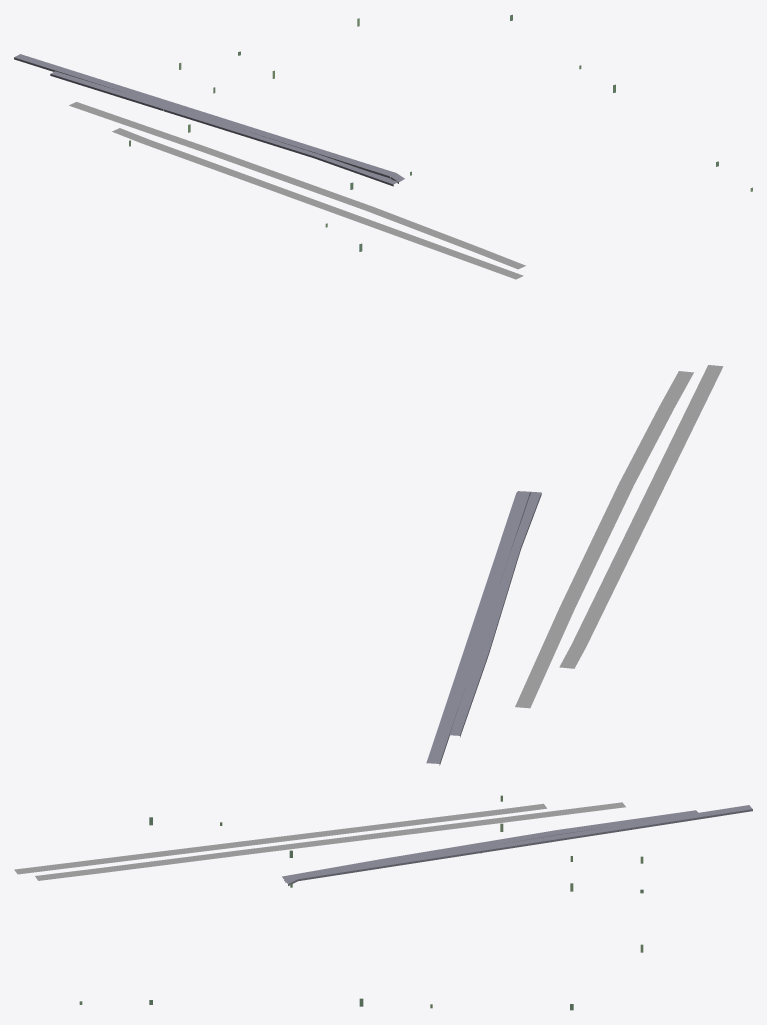
3 views of the same model, one above another, from view 1: azimuth 30°, elevation 25°; view 2: azimuth 150°, elevation 25°; view 3: azimuth 270°, elevation 25° (orthographic). The views are drawn at different scales.
Size of the model in its own units: 424 by 15.96 by 632.
